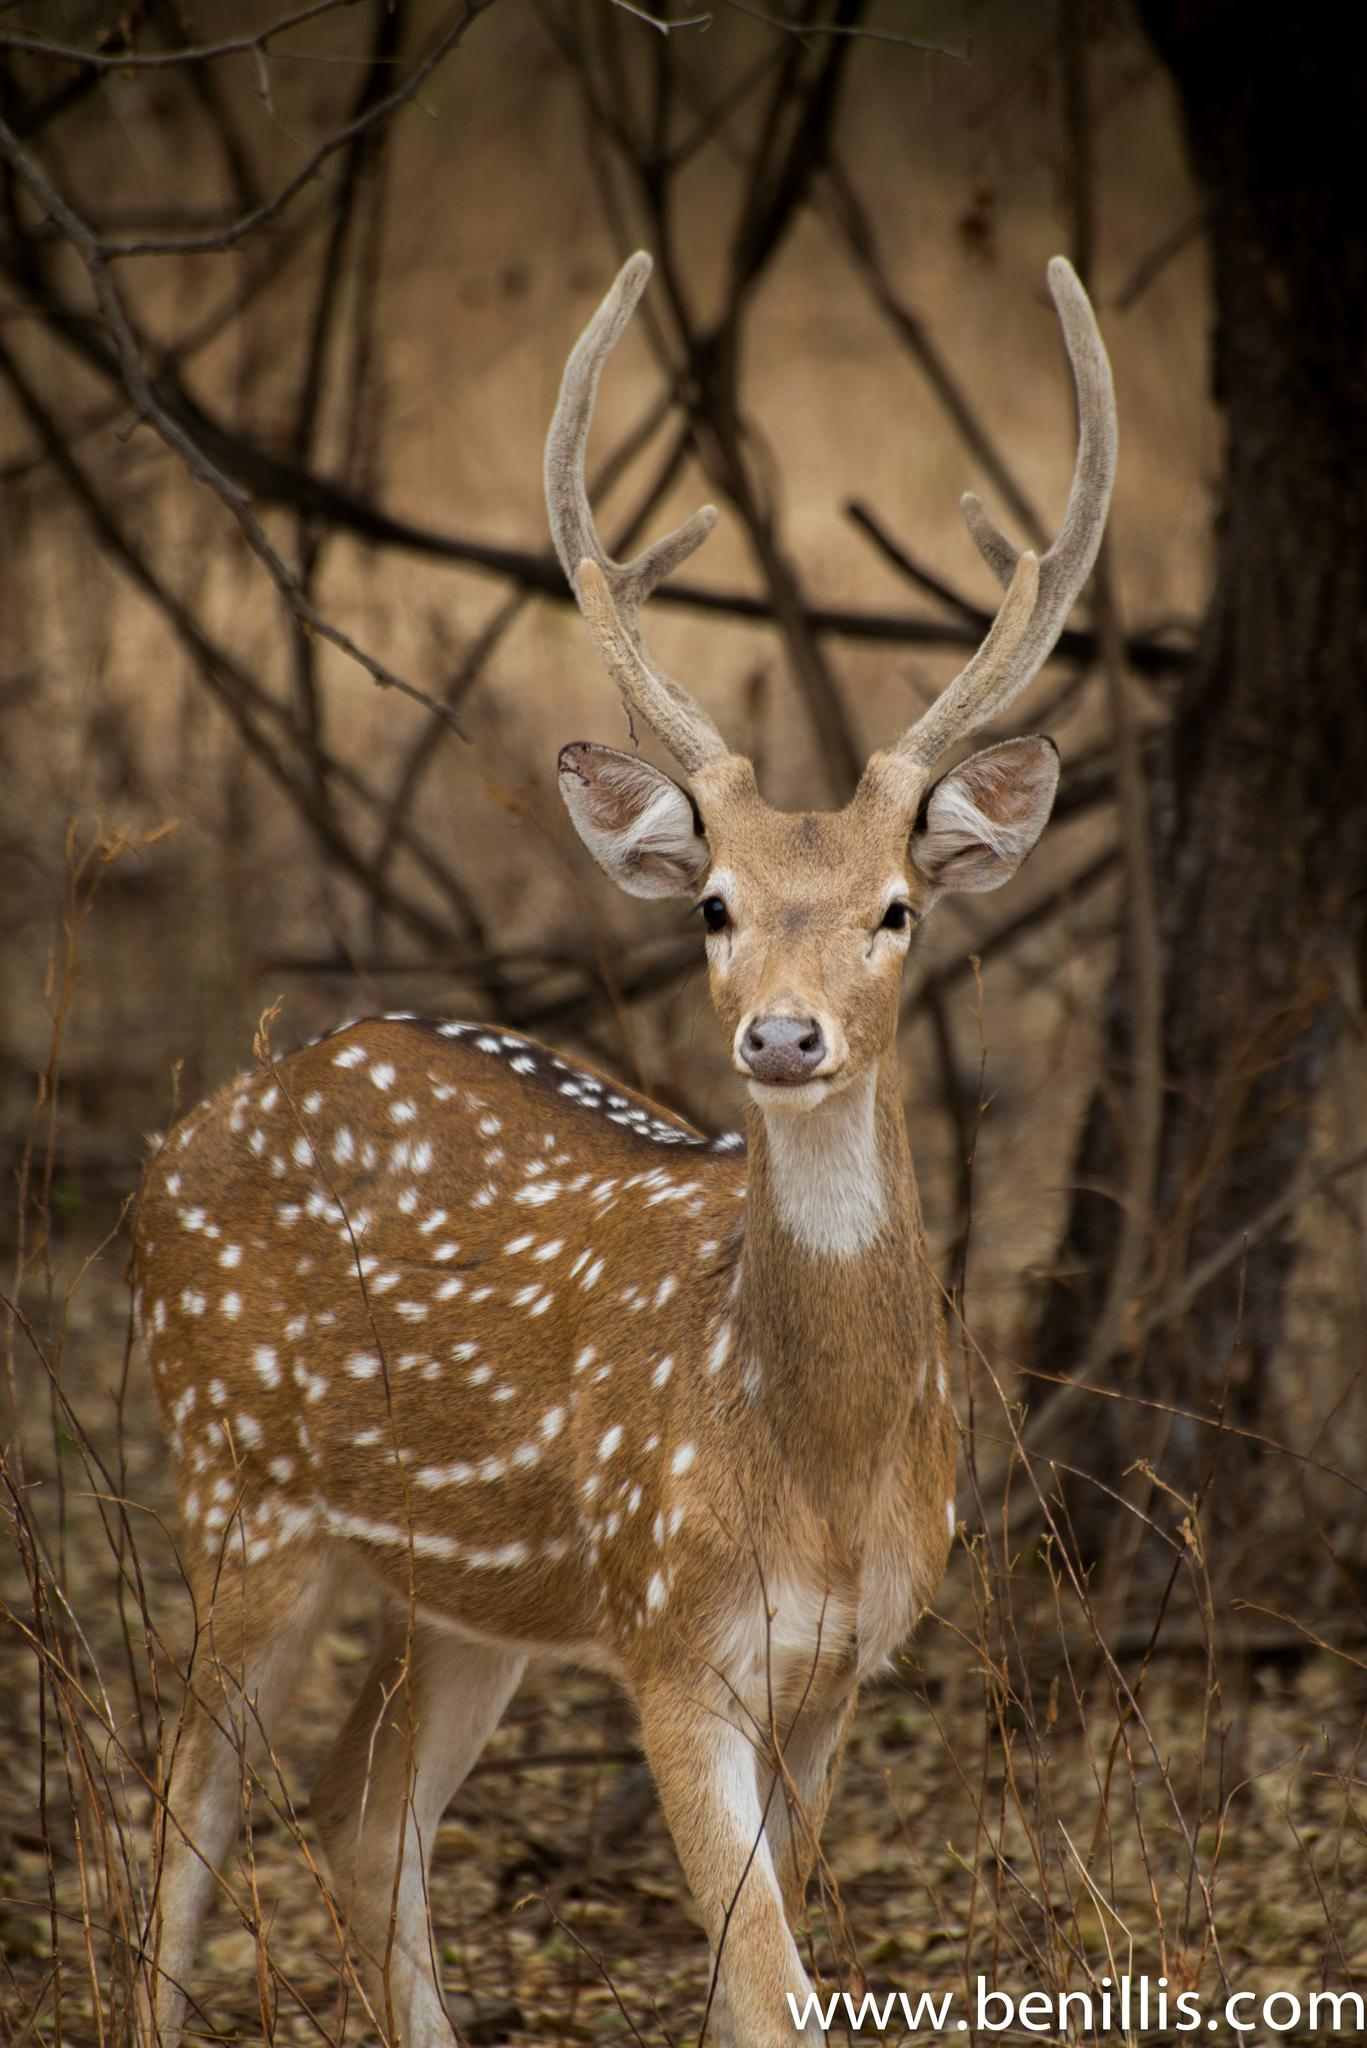Deer: (136, 256, 1115, 2046)
